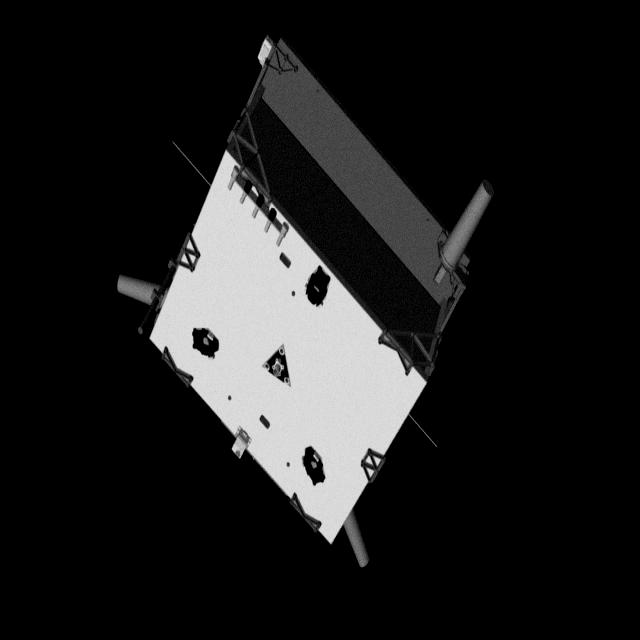satellite: (116, 30, 504, 580)
